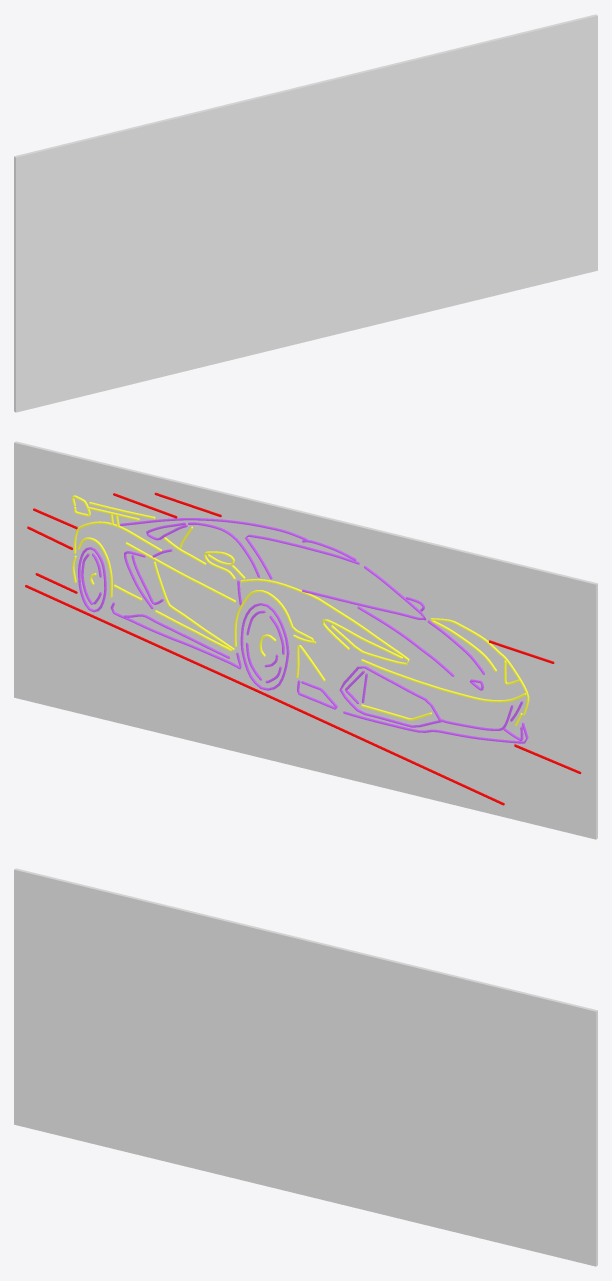
Rendered from my-neon-sign-optimized (38).glb.
3 views of the same model, one above another, from view 1: azimuth 30°, elevation 25°; view 2: azimuth 150°, elevation 25°; view 3: azimuth 330°, elevation 25° (orthographic).
Bounding box in the file's own units: 1236 × 517 × 16.4.
